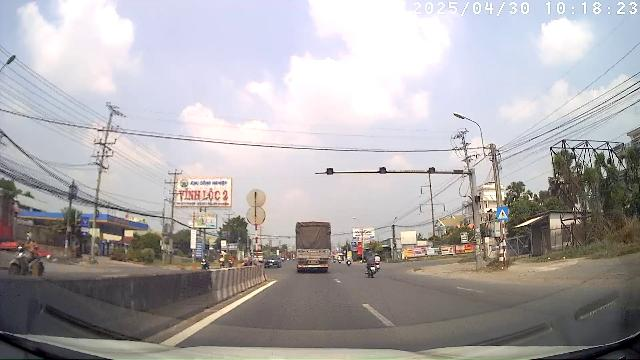423a-duong-nguoi-di-bo-sang-ngang-1: (497, 207, 509, 221)
